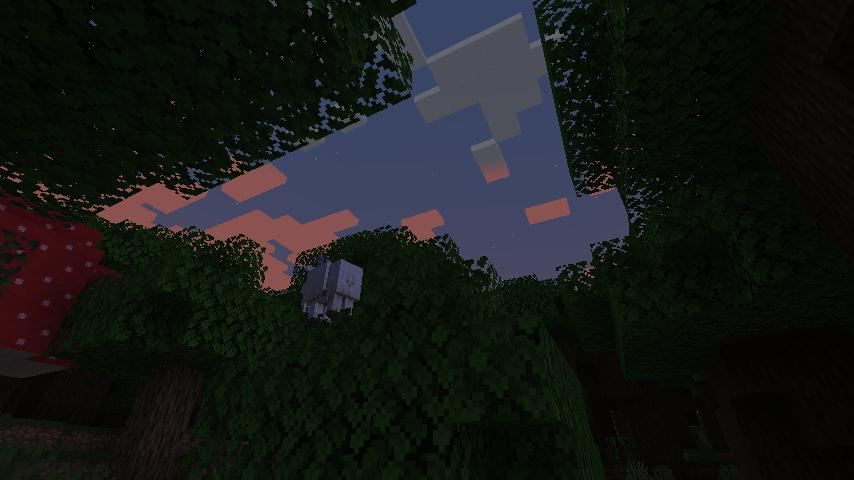goat: (300, 257, 367, 323)
